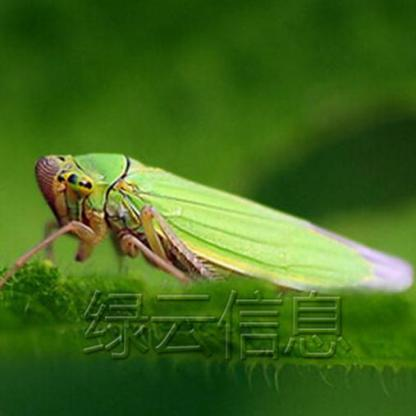Green-Leafhopper: (12, 151, 416, 290)
